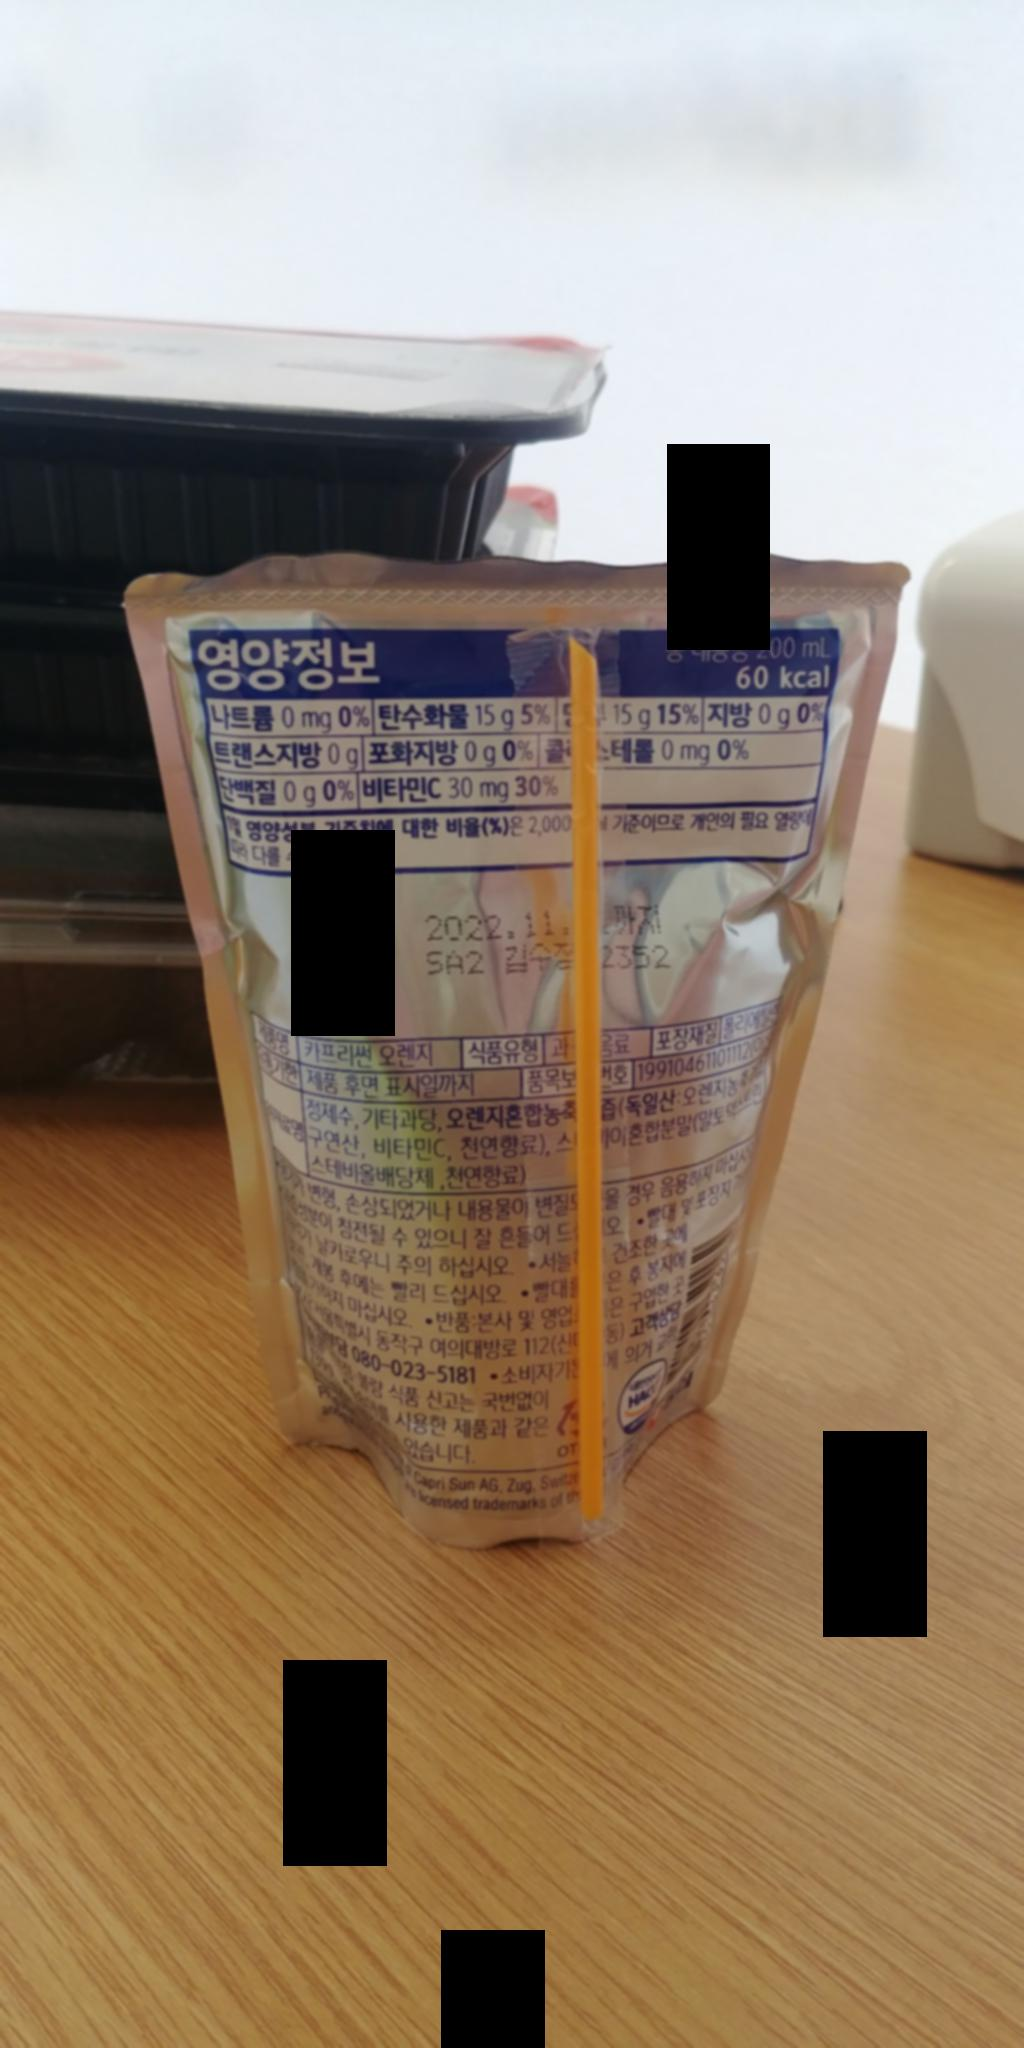cafrisun: (99, 512, 922, 1587)
